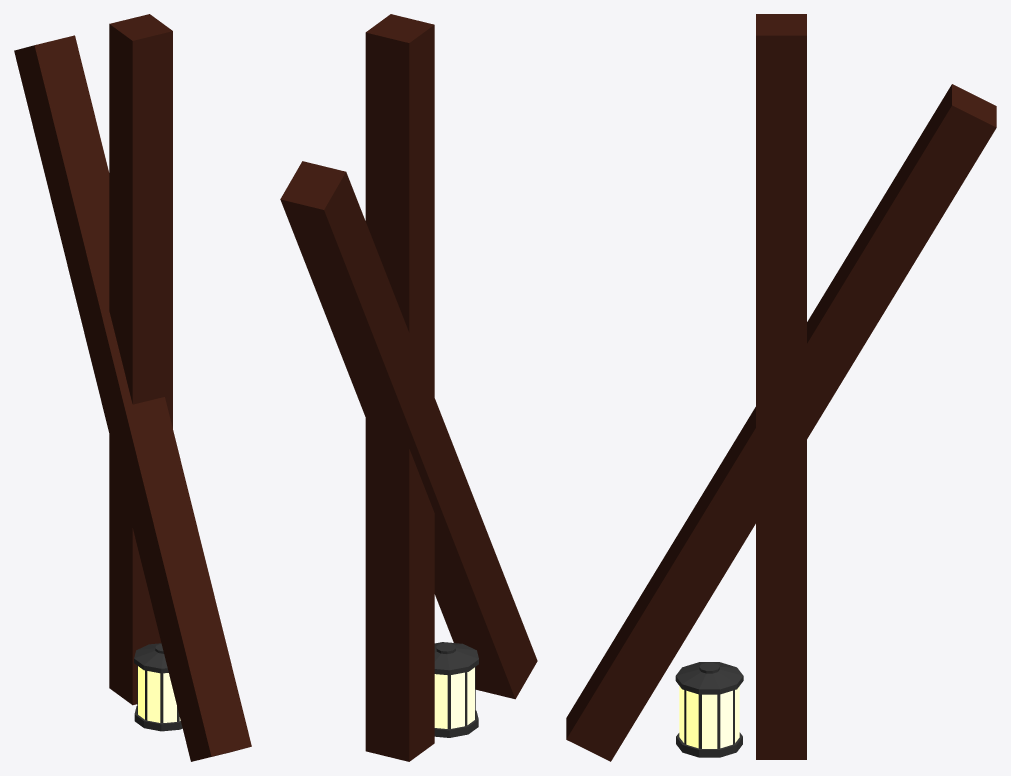
The model's file is setpiece.fbx.
3 renders of one model, left to right at view 1: azimuth 30°, elevation 25°; view 2: azimuth 150°, elevation 25°; view 3: azimuth 270°, elevation 25°, orthographic. The views are drawn at different scales.
Visible parts, largest first — view 1: setpiece; view 2: setpiece; view 3: setpiece.
Boxes of the visible parts, x1,y1,x2,y2 form: setpiece: [14, 14, 251, 761]; setpiece: [280, 14, 537, 761]; setpiece: [566, 14, 996, 761].
Size of the model in its own units: 17.49 by 202 by 108.
